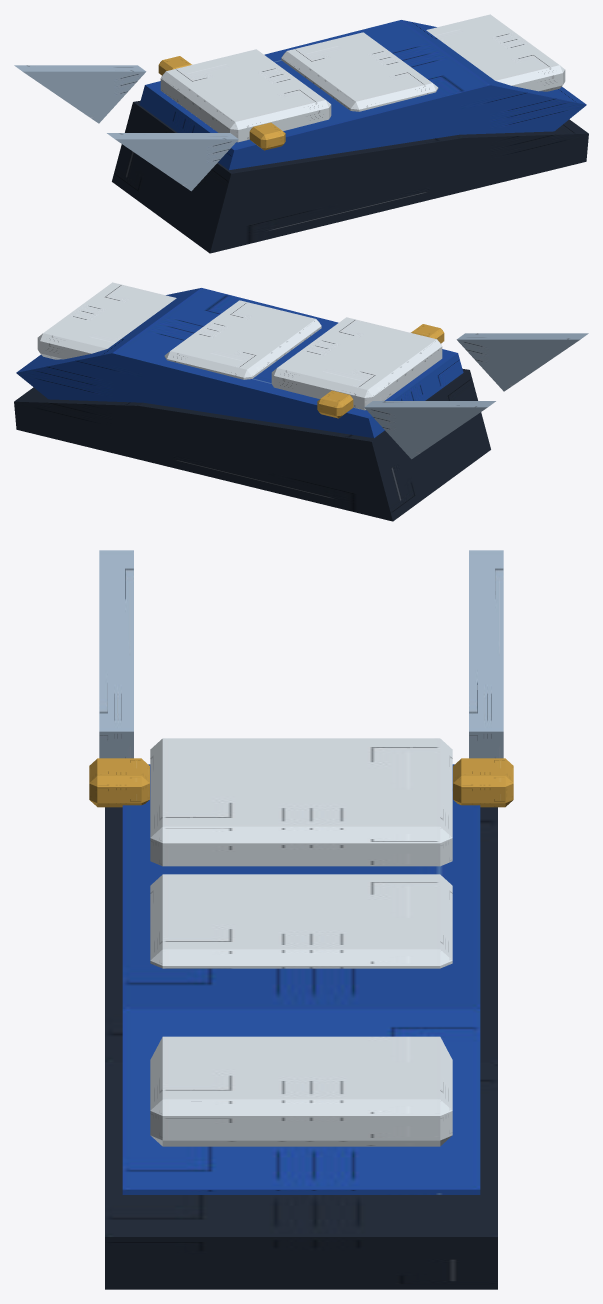
The model's file is dashboots.glb.
The picture shows the model from 3 angles, top to bottom: view 1: azimuth 30°, elevation 25°; view 2: azimuth 150°, elevation 25°; view 3: azimuth 270°, elevation 25°; orthographic projection. The views are drawn at different scales.
Visible parts, largest first — view 1: foot_L, foot_R; view 2: foot_L, foot_R; view 3: foot_L, foot_R.
Boxes of the visible parts, box(x1,y1,x2,y2) form: foot_L: box(14, 14, 588, 253); foot_R: box(249, 122, 285, 150); foot_L: box(14, 282, 588, 521); foot_R: box(411, 324, 444, 343); foot_L: box(99, 550, 513, 1289); foot_R: box(89, 758, 149, 807).
Size of the model in its own units: 0.382 by 0.106 by 0.147.
Materials: 5 (5 with a texture image).
